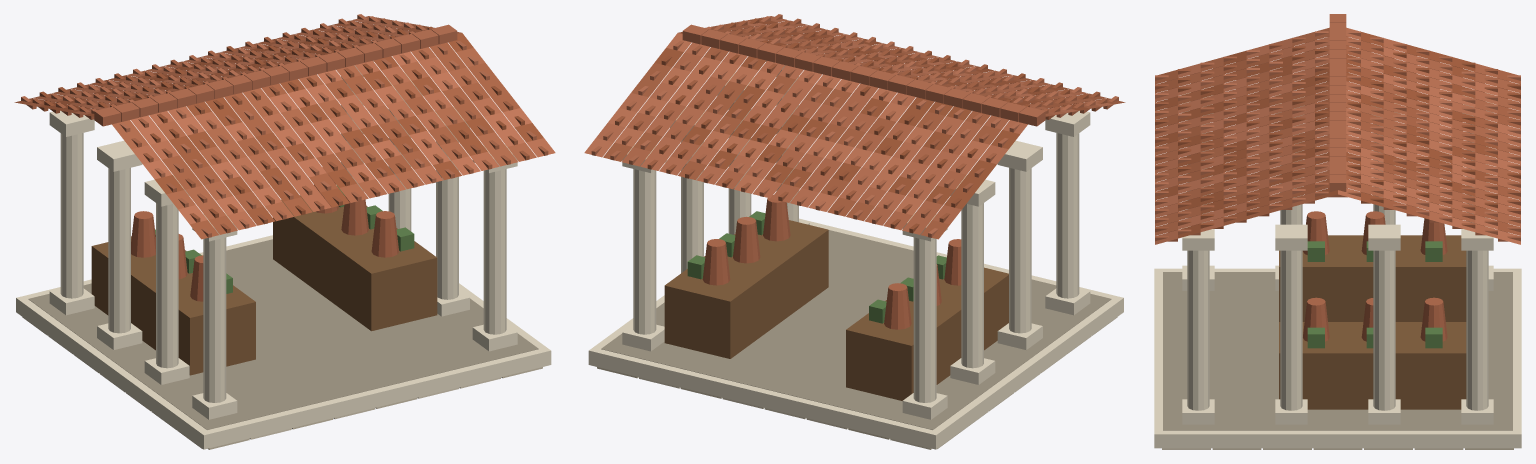
The picture shows the model from 3 angles, left to right: view 1: azimuth 30°, elevation 25°; view 2: azimuth 150°, elevation 25°; view 3: azimuth 270°, elevation 25°; orthographic projection. The views are drawn at different scales.
Parts seen in each view (by area): view 1: Bergfried – Steine, Säulen, Ziegel und Feuerstelle; view 2: Bergfried – Steine, Säulen, Ziegel und Feuerstelle; view 3: Bergfried – Steine, Säulen, Ziegel und Feuerstelle.
Boxes of the visible parts, bbox=[...] form: Bergfried – Steine, Säulen, Ziegel und Feuerstelle: bbox=[14, 14, 555, 449]; Bergfried – Steine, Säulen, Ziegel und Feuerstelle: bbox=[584, 14, 1125, 449]; Bergfried – Steine, Säulen, Ziegel und Feuerstelle: bbox=[1154, 14, 1521, 449].
Size of the model in its own units: 662 by 475 by 592.
